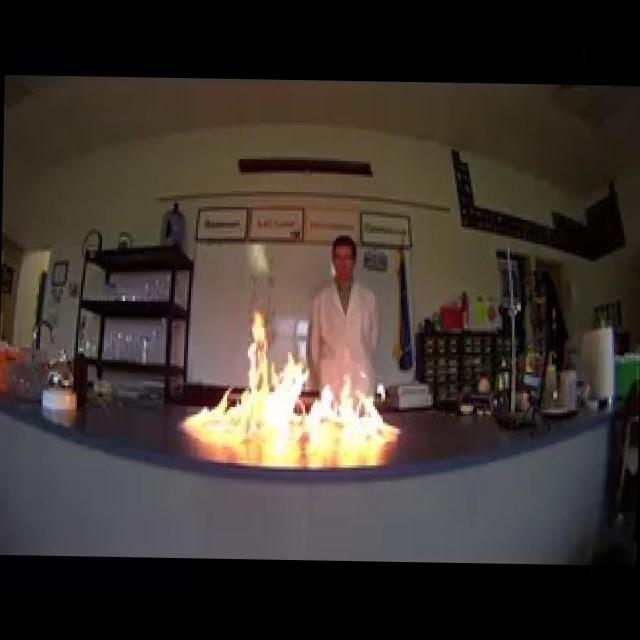Fire: (177, 300, 406, 439)
